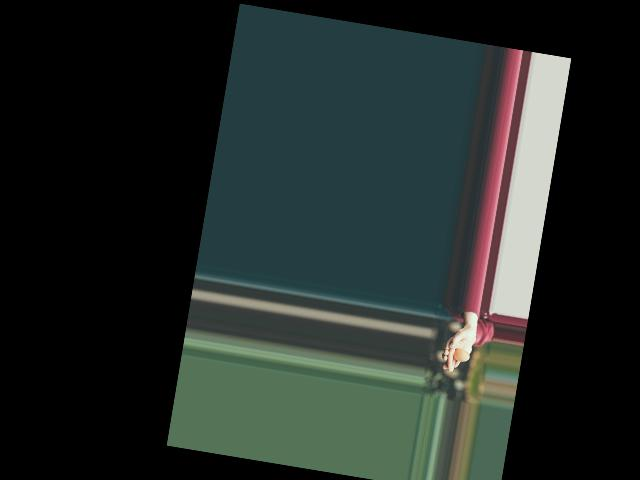egg: (452, 347, 470, 362)
